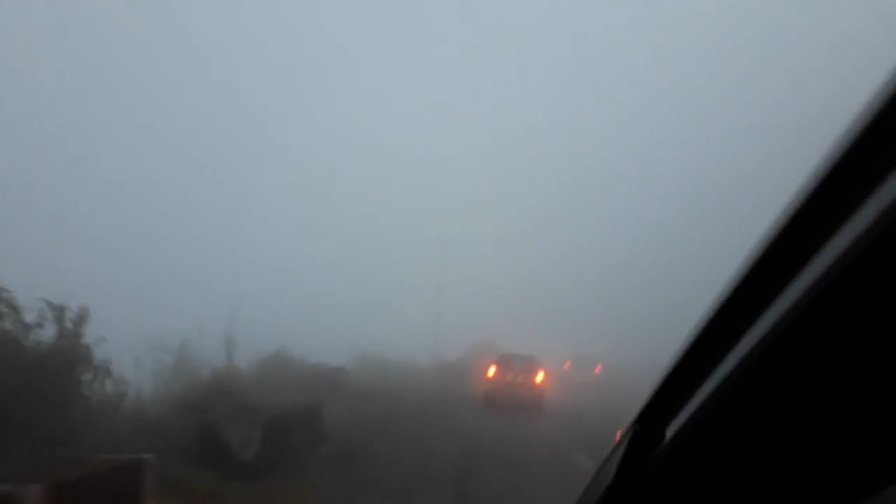car: (483, 352, 547, 409), (562, 352, 605, 385)
